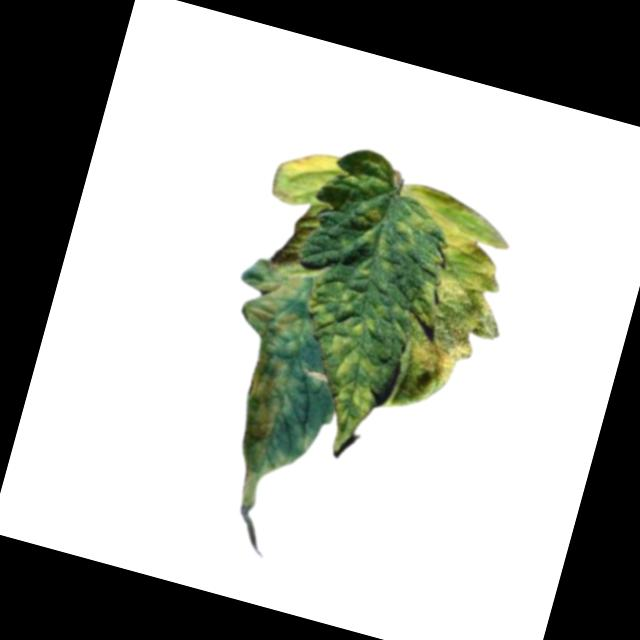Leaf_Mold: (184, 128, 536, 564)
